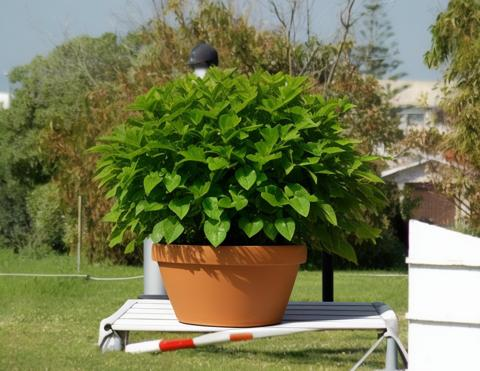person: (180, 44, 290, 196)
pottedplant: (87, 65, 398, 338)
